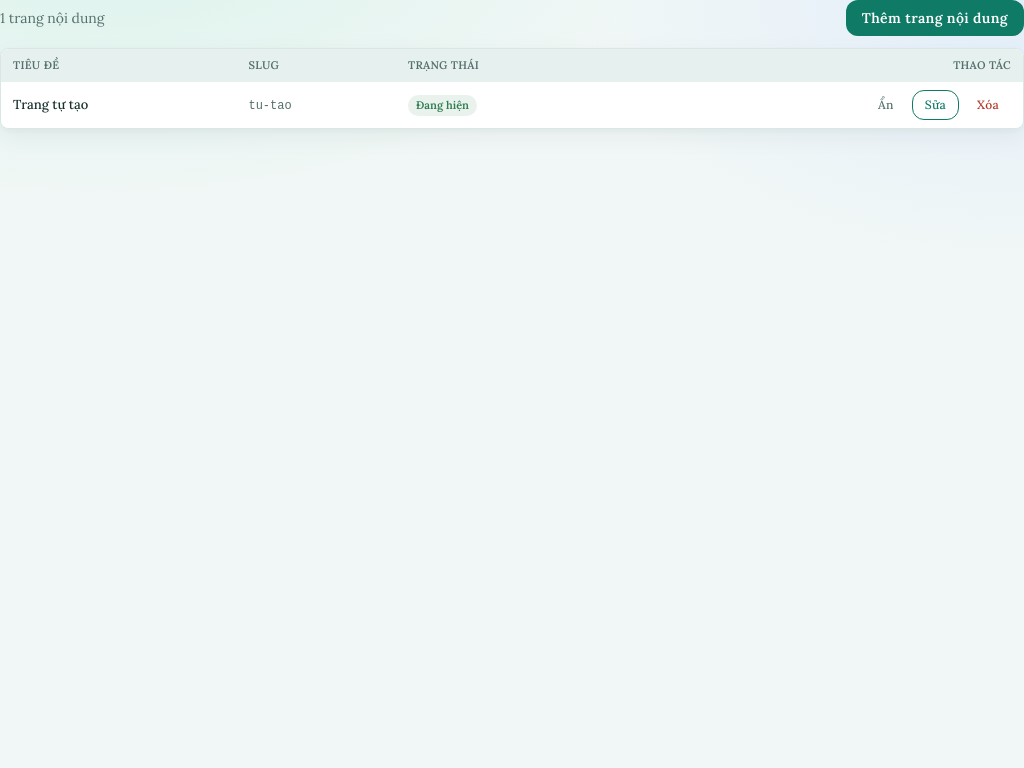
Test case: Trang nội dung › RESERVED_PAGE từ server hiện thông báo
Click the button with aria-label "Sửa Trang tự tạo": (935, 105) [912,90,959,120]
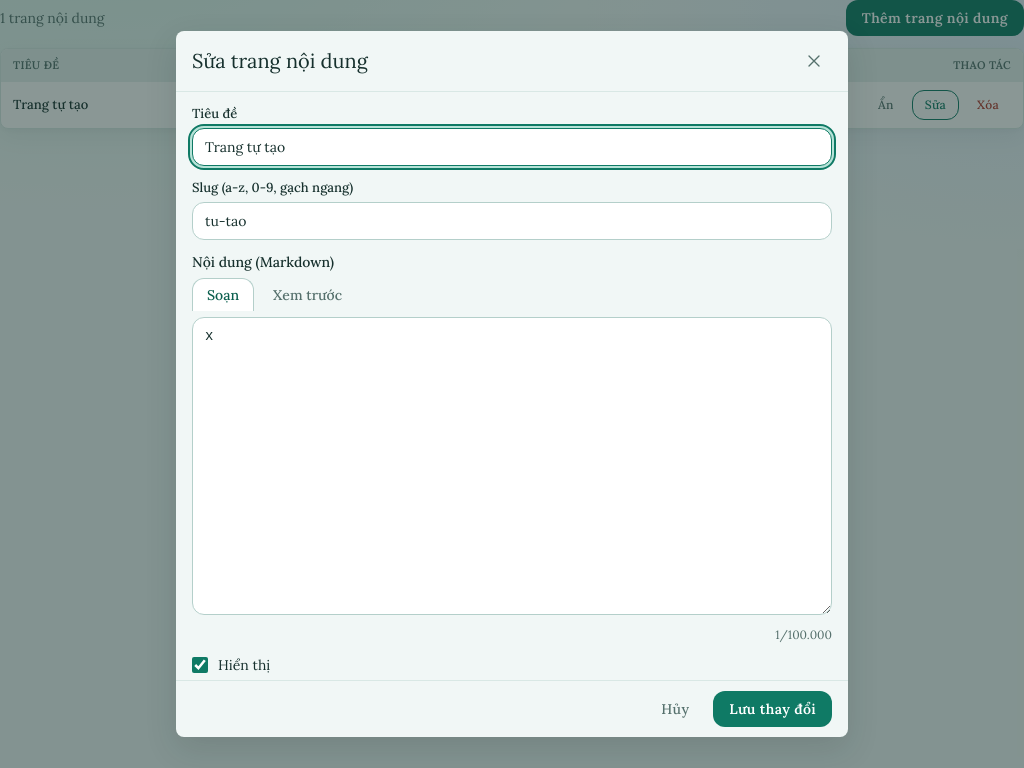
Replace the text in the field labelled "Slug (a-z, 0-9, gạch ngang)" with "doi-slug": (512, 221) [192,202,832,240]
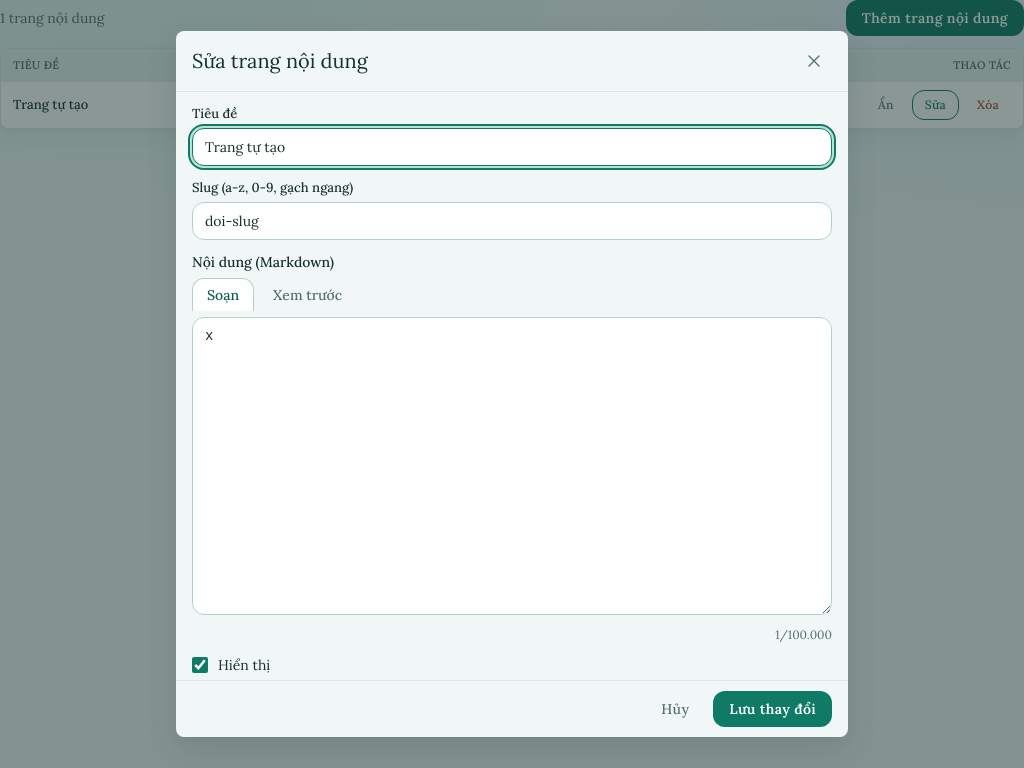
Click the button "Lưu thay đổi": (773, 709) [713,691,832,727]
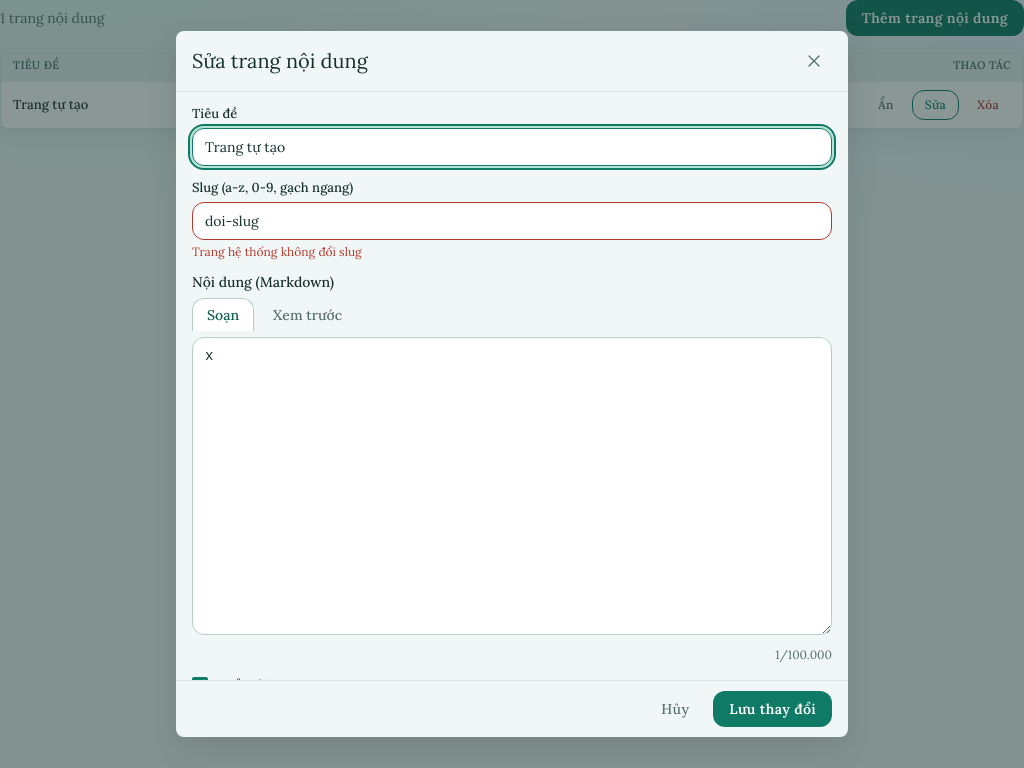
Expected: the text "Trang hệ thống không đổi slug" is shown, [192,244,362,259]
